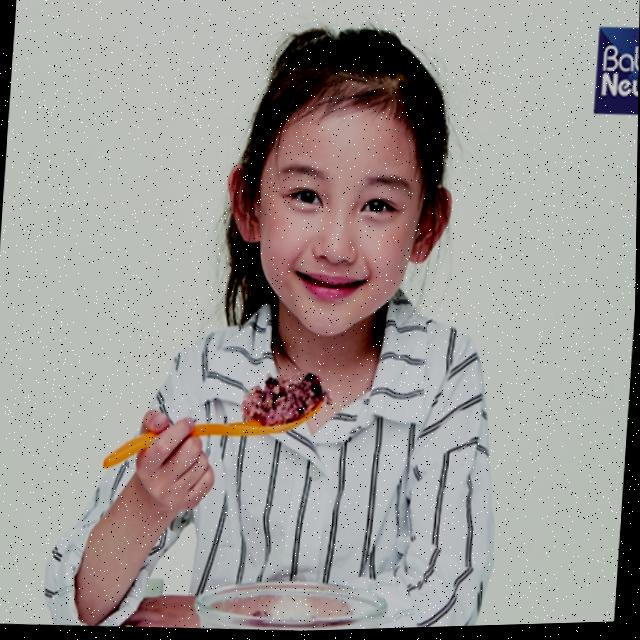eating-person: (36, 0, 553, 639)
